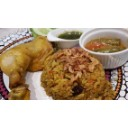briyani: (1, 40, 108, 97)
